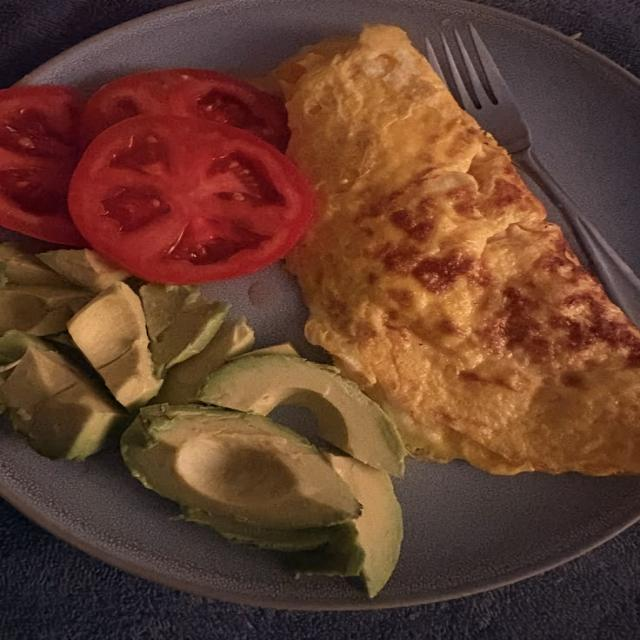omelette: (276, 26, 639, 474)
